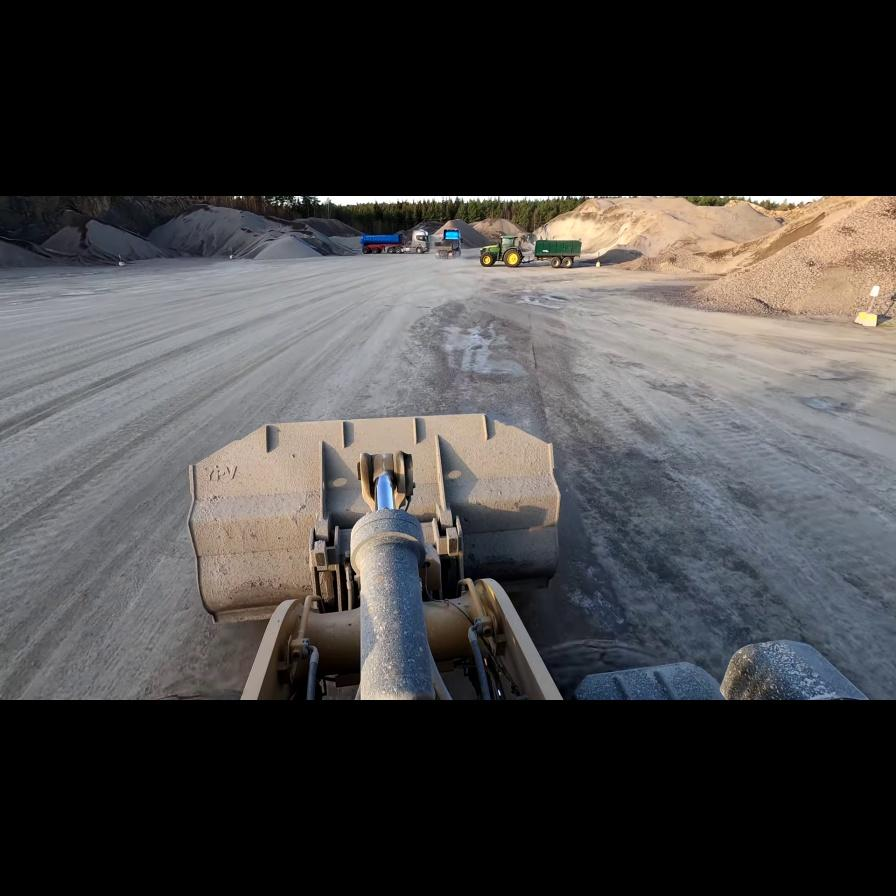anchor: (357, 451, 410, 512)
pile of gravel: (665, 195, 893, 322), (550, 199, 782, 268), (1, 196, 185, 266), (153, 204, 355, 260), (428, 217, 535, 246), (0, 234, 60, 268)
